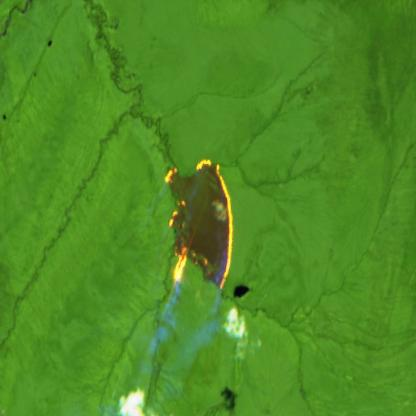fire: (162, 157, 236, 293)
